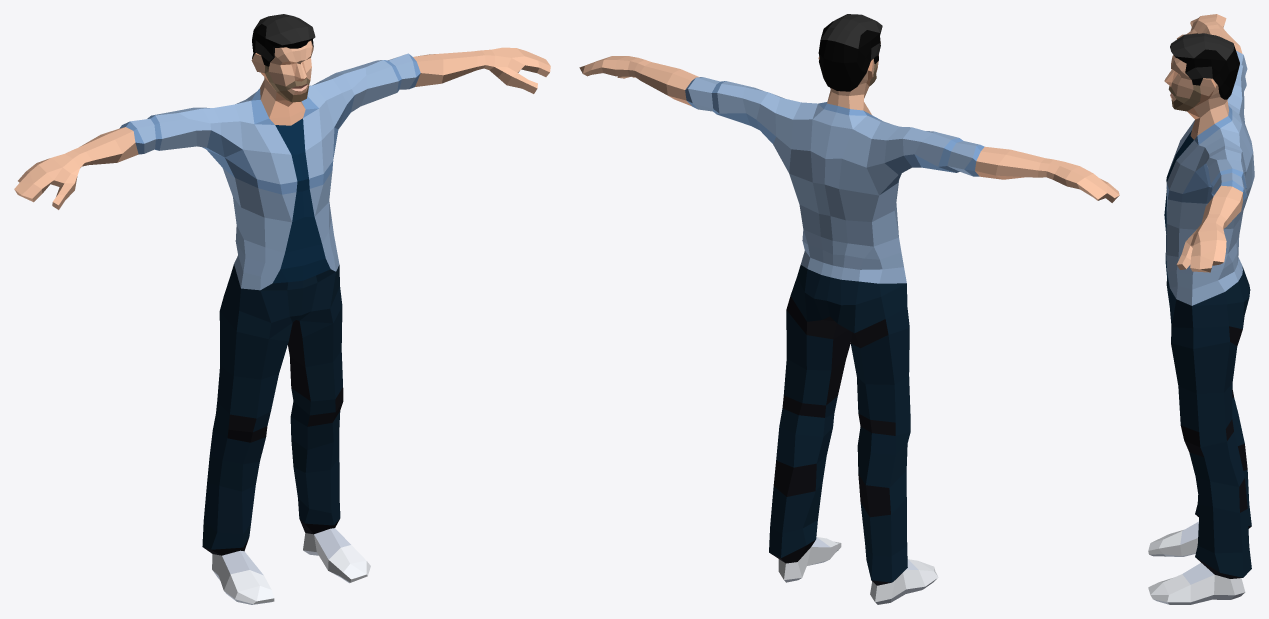
Rendered from casual_Male_G-model.fbx.
3 views of the same model, side by side, from view 1: azimuth 30°, elevation 25°; view 2: azimuth 150°, elevation 25°; view 3: azimuth 270°, elevation 25° (orthographic). The views are drawn at different scales.
Visible parts, largest first — view 1: casual_Male_G; view 2: casual_Male_G; view 3: casual_Male_G.
Part boxes in pixels (bbox=[...]): casual_Male_G: bbox=[14, 14, 550, 604]; casual_Male_G: bbox=[579, 14, 1119, 604]; casual_Male_G: bbox=[1148, 14, 1254, 604].
Bounding box in the file's own units: 182 × 182 × 32.64.
1 material, 1 textured.
